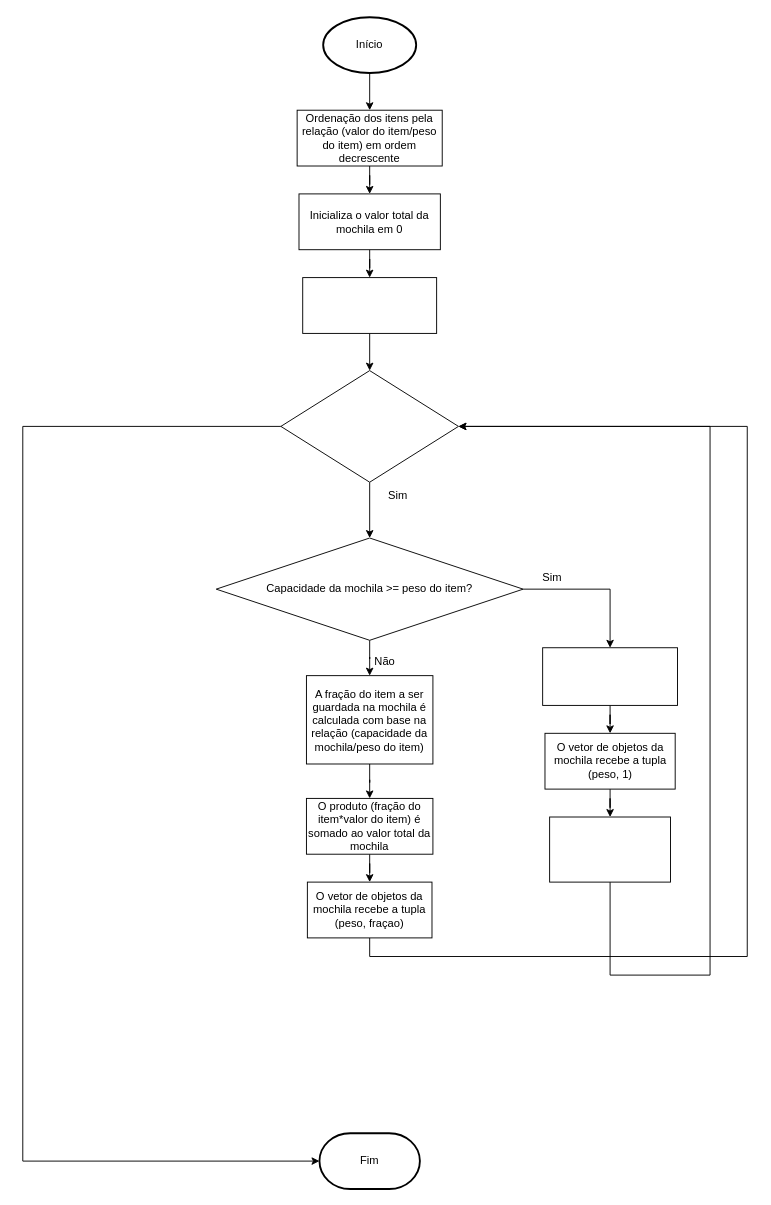
Some shapes in this 771 by 1205 pixel diagram are drawn without their labels. The shapes that lost their labels are listed below. From the top down, each one's centre as x and y in pixels, then its label:
point 369,305: Inicializa o vetor de objetos da mochila como array vazio, []
point 369,426: indice < tamanho do vetor itens
point 610,676: O peso do item é somado ao valor total da mochila
point 610,849: É subtraído da capacidade da mochila o peso do item
